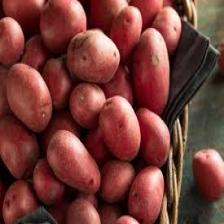Defected potato: (44, 128, 101, 196), (131, 28, 172, 120), (4, 61, 54, 134), (67, 25, 120, 88), (98, 93, 142, 162), (36, 1, 87, 57), (0, 110, 37, 183), (127, 163, 166, 224), (107, 4, 144, 66), (149, 2, 182, 64), (191, 144, 224, 204), (0, 16, 25, 68)
